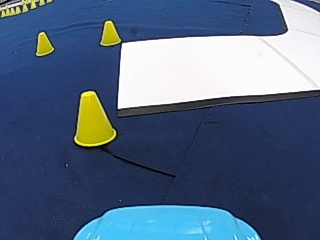cone: (72, 89, 116, 147), (99, 19, 121, 45), (35, 31, 53, 55)
